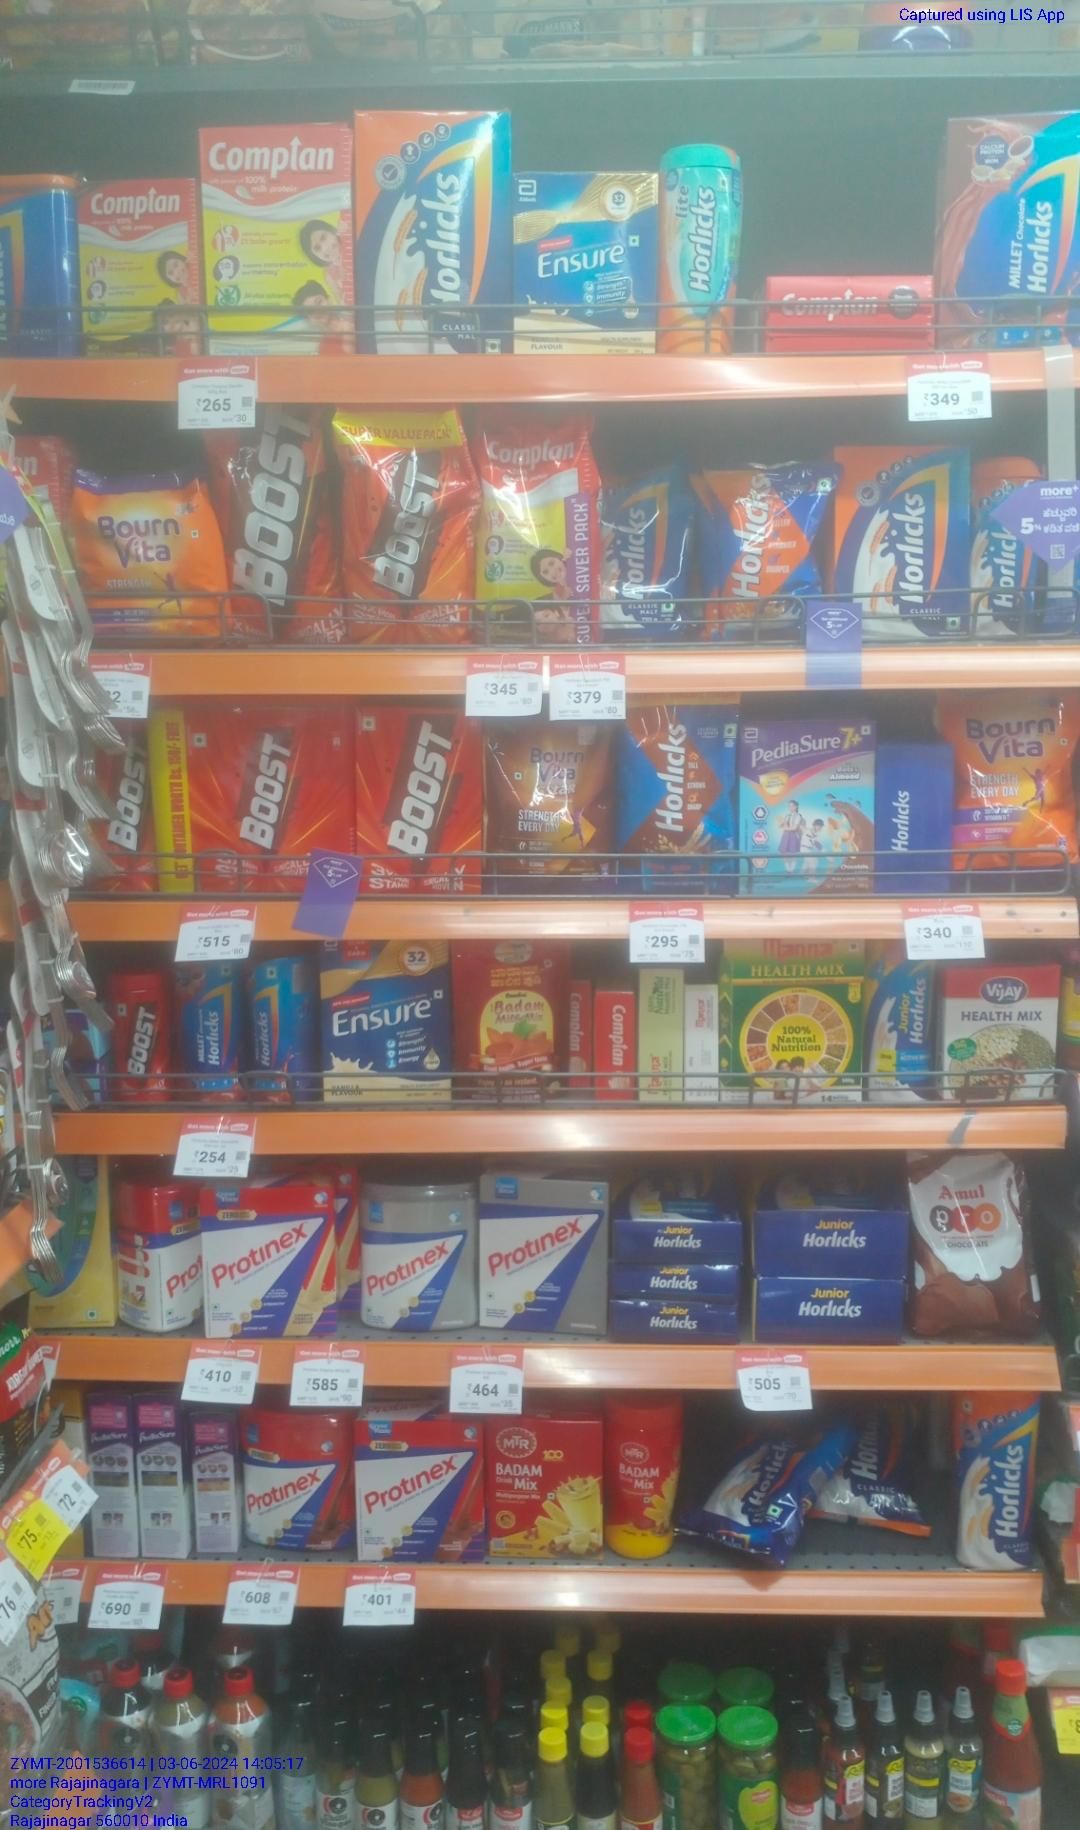BOURN_VITA_1_KG_POUCH: (946, 681, 1080, 887)
BOURN_VITA_750_G_POUCH: (81, 469, 226, 641)
BOURN_VITA_FIVE_STAR_MAGIC_500_G_POUCH: (487, 713, 611, 893)
COMPLAN_CHOCOLATE_200_GMS_PACK: (77, 176, 204, 356)
COMPLAN_CREAMY_CLASSIC_500_G_PACK: (210, 121, 355, 356)
COMPLAN_RC_POUCH_700_GMS_12: (478, 402, 595, 644)
ENSURE_VANILLA_400_G_PACK: (516, 173, 654, 359), (321, 941, 447, 1104)
HORLICKS_JUNIOR_VANILLA_500_GM_JAR: (869, 941, 939, 1103)
HORLICKS_LITE_REGULAR_MALT_500_GM_JAR: (662, 143, 738, 361)
HORLICK_CHOCOLATE_750_G_POUCH: (620, 699, 739, 896)
HORLICK_CLASSIC_MALT_500_G_JAR: (954, 1394, 1043, 1572), (977, 459, 1041, 643)
HORLICK_CLASSIC_MALT_500_G_PACK: (357, 117, 512, 360), (833, 445, 971, 639)
HORLICK_CLASSIC_MALT_750_G_POUCH: (703, 454, 827, 644), (600, 445, 694, 635)
PEDIASURE_7_PLUS_CHOCOLATE_400_G_PACK: (748, 720, 873, 900)
PROTINEX_CHOCOLATE_400_G_JAR: (243, 1408, 347, 1551)
PROTINEX_ORIGINAL_400_G_JAR: (361, 1178, 476, 1330)
